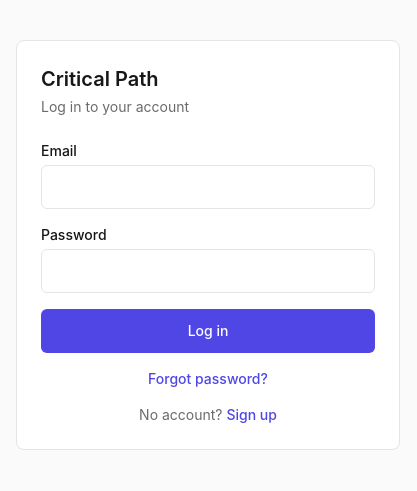
Test: Login › shows required errors and skips the request when fields are empty
This screenshot has width=417, height=491.
Click the button "Log in": (208, 331) [41, 309, 375, 353]
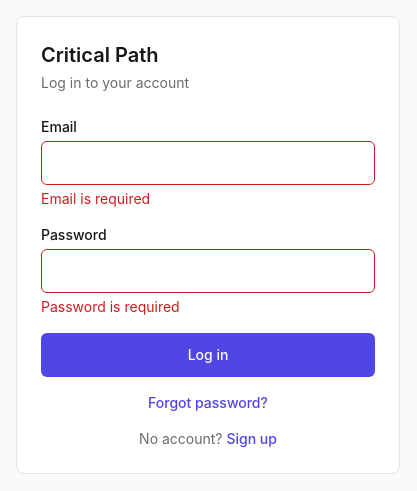
Now the text "Email is required" is shown, box [41, 190, 150, 207]
Now the text "Password is required" is shown, box [41, 298, 180, 315]
